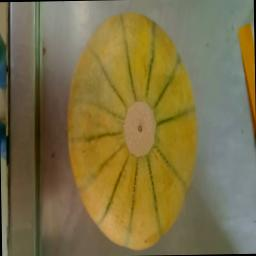Melon Ripe: (54, 6, 210, 256)
